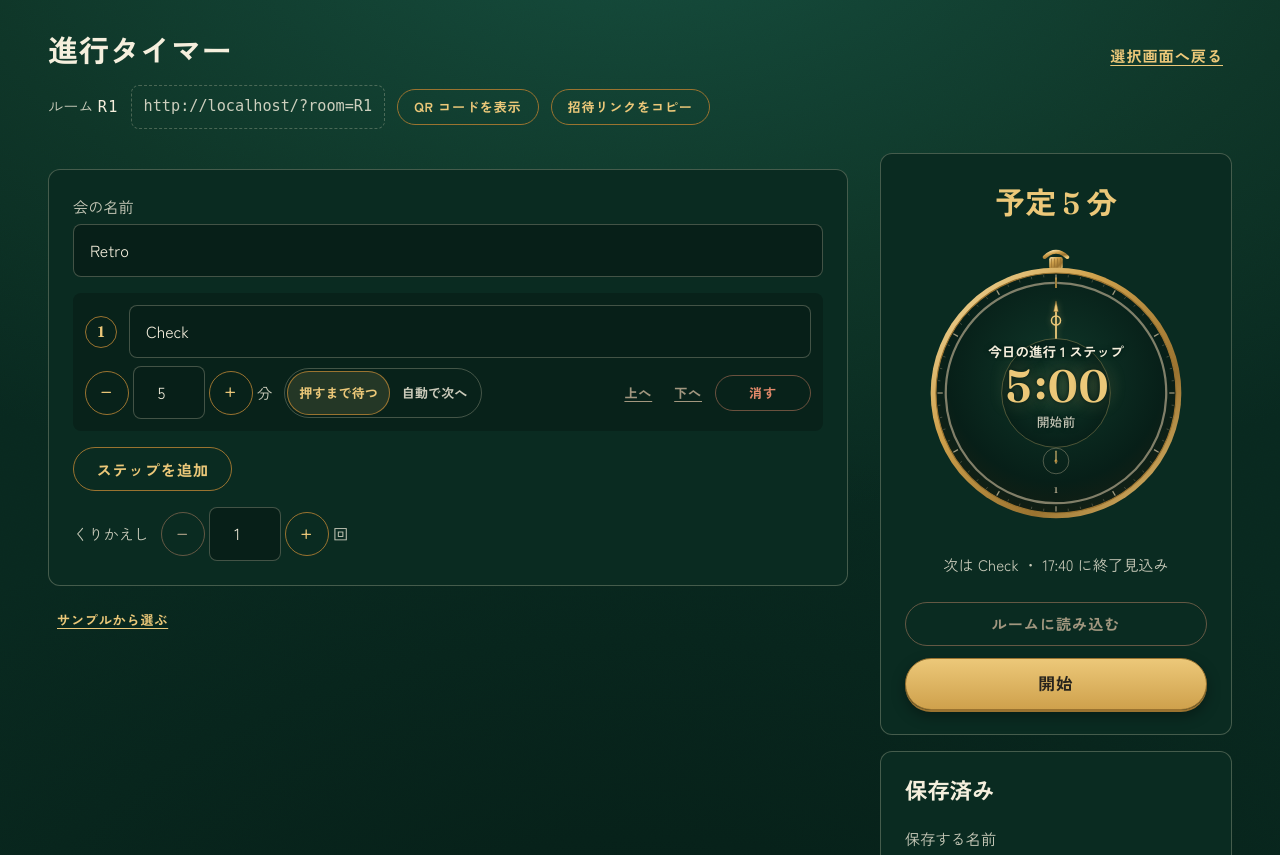
it: サンプルから選ぶ › Given ルームの写しの下書きを 1 文字変えた / When 朝会を選ぶ / Then 確かめる
Replace the text in the field named "ステップ 1 の名前" with "Checkx" at (470, 332), box [129,305,811,358]
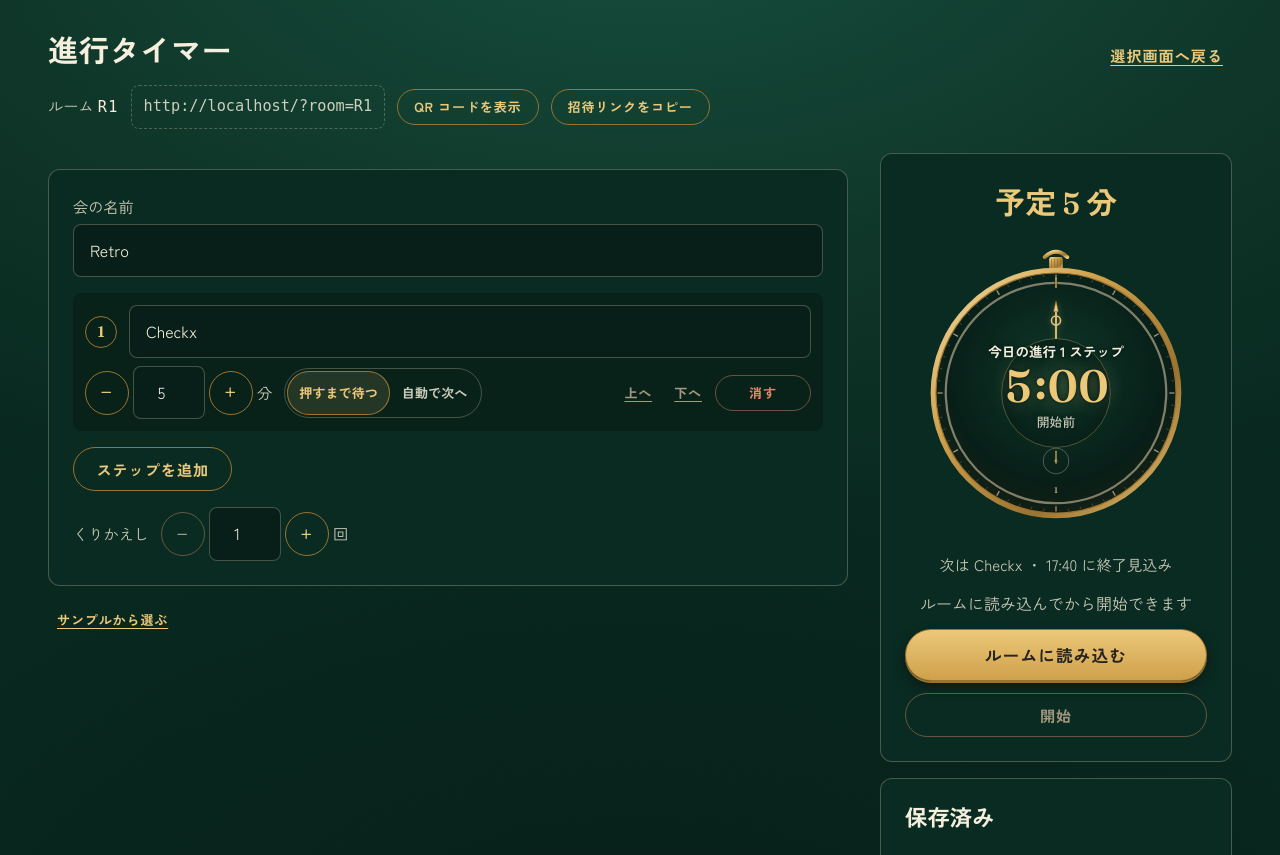
Click the button "サンプルから選ぶ" at (113, 620), box [48,602,177,638]
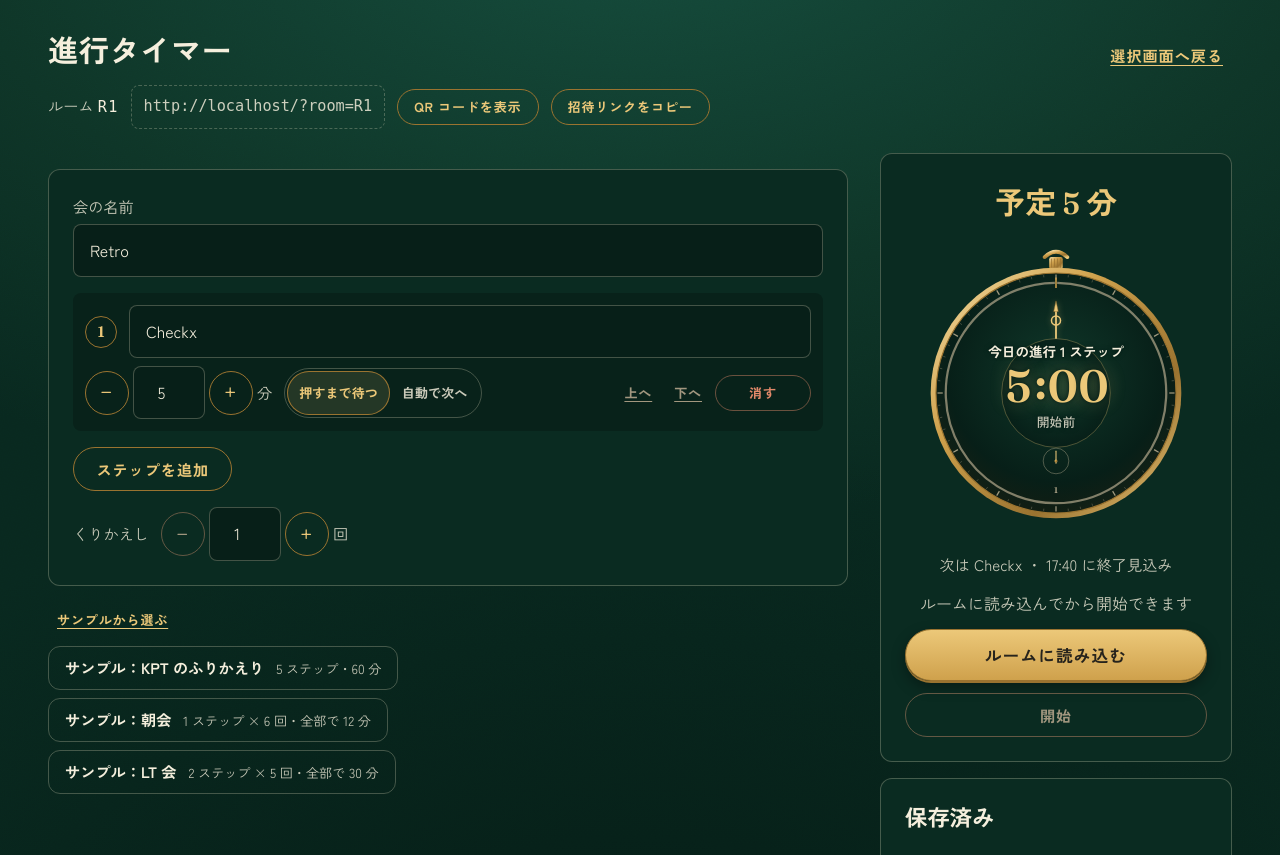
Click the button "サンプル：朝会 1 ステップ × 6 回・全部で 12 分" at (218, 720), box [48,698,388,742]
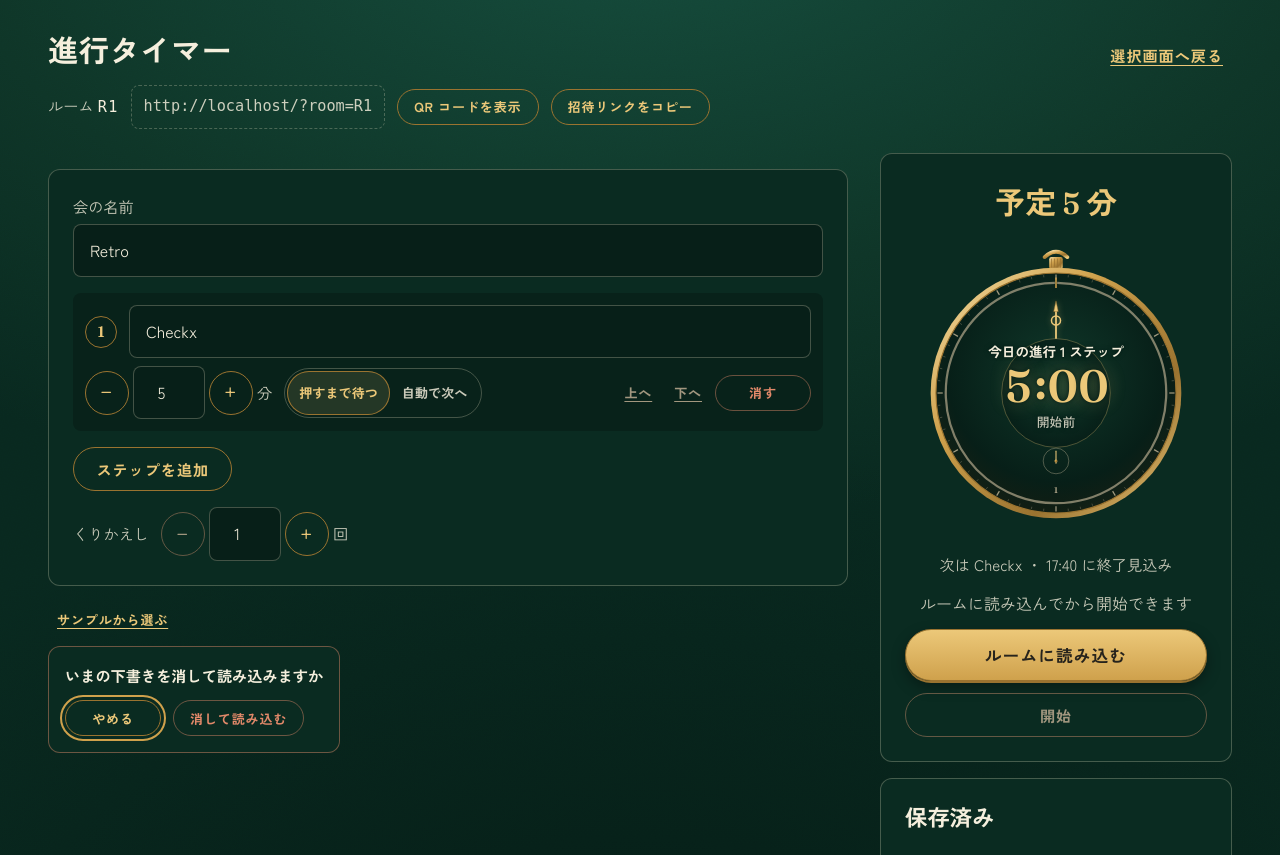
Expected: the element "いまの下書きを消して読み込みますか" is shown, [48,646,340,753]
